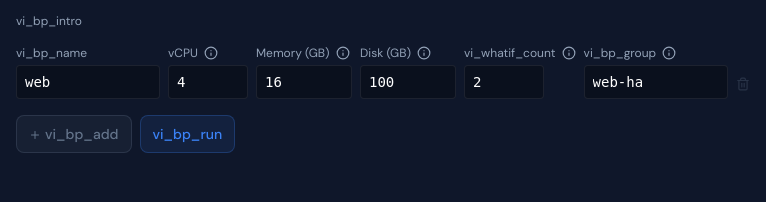
Toplu yerleşim › geçersiz profilde istek atılmaz, Türkçe hata gösterilir
The width and height of the screenshot is (766, 202).
Clear the field with test id "bp-name" at (88, 82), box [16,65,160,99]
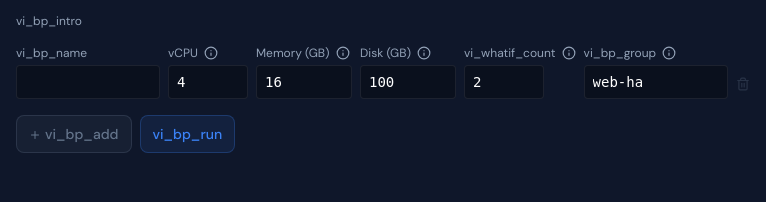
Click the button "vi_bp_run" at (187, 134), box [140,115,235,153]
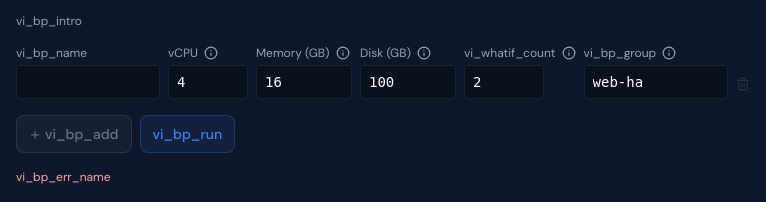
expect the text with test id "bp-error" reads "vi_bp_err_name": met, box [16,169,111,185]
